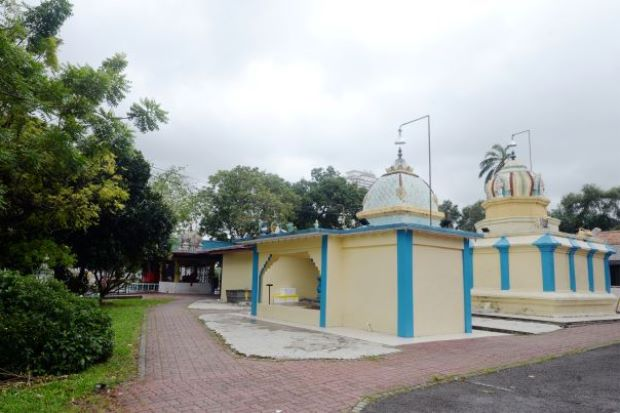Hindu Temple: (245, 143, 615, 324)
